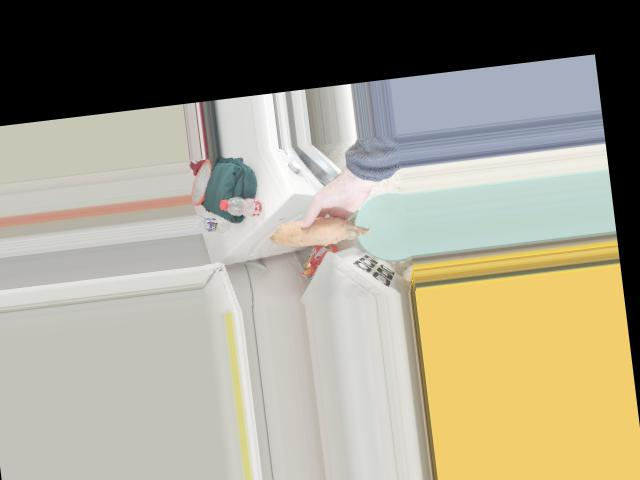sweet_potato: (279, 209, 363, 249)
